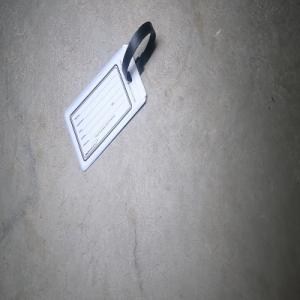LuggageTag: (62, 19, 157, 173)
